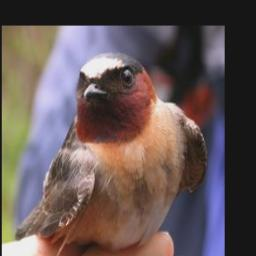Swallow: (15, 51, 205, 256)
